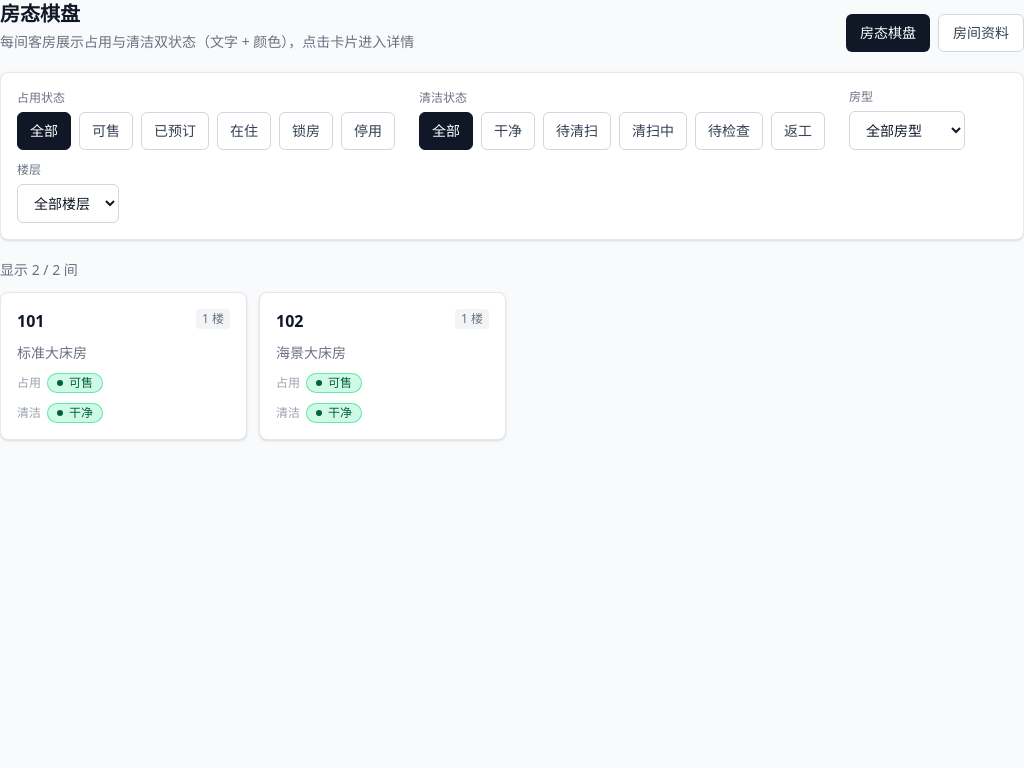
RoomsManagementView（alpha.9.6 F1） › 后端 409（房号重复）文案原样展示在对话框内
The width and height of the screenshot is (1024, 768).
Click the tab "房间资料" at (981, 33), box x1=938 y1=14 x2=1023 y2=52
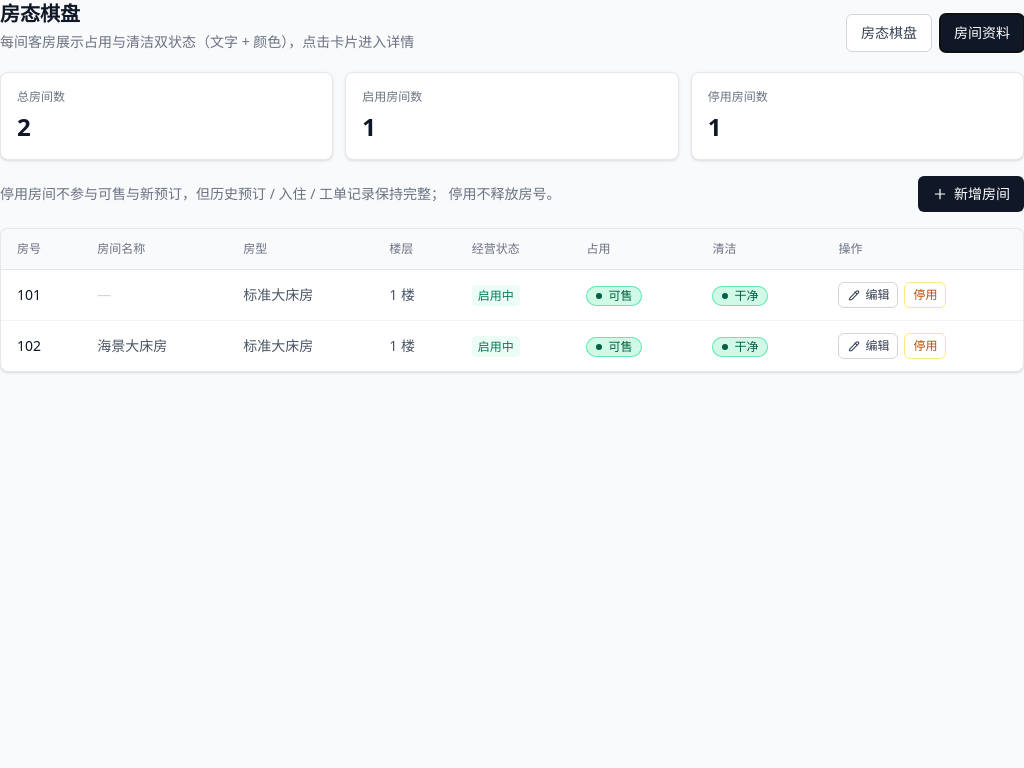
Click the button "新增房间" at (971, 194), box x1=918 y1=176 x2=1023 y2=212
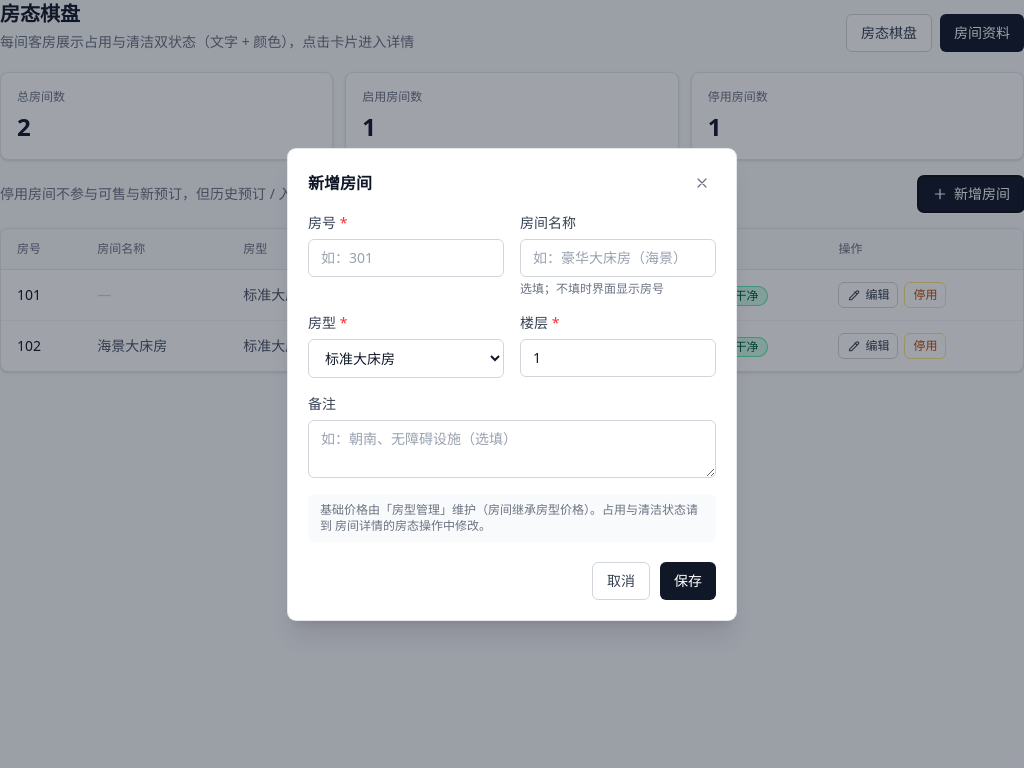
Type "101" into the field labelled "房号 *" at (406, 258), box x1=308 y1=238 x2=504 y2=276
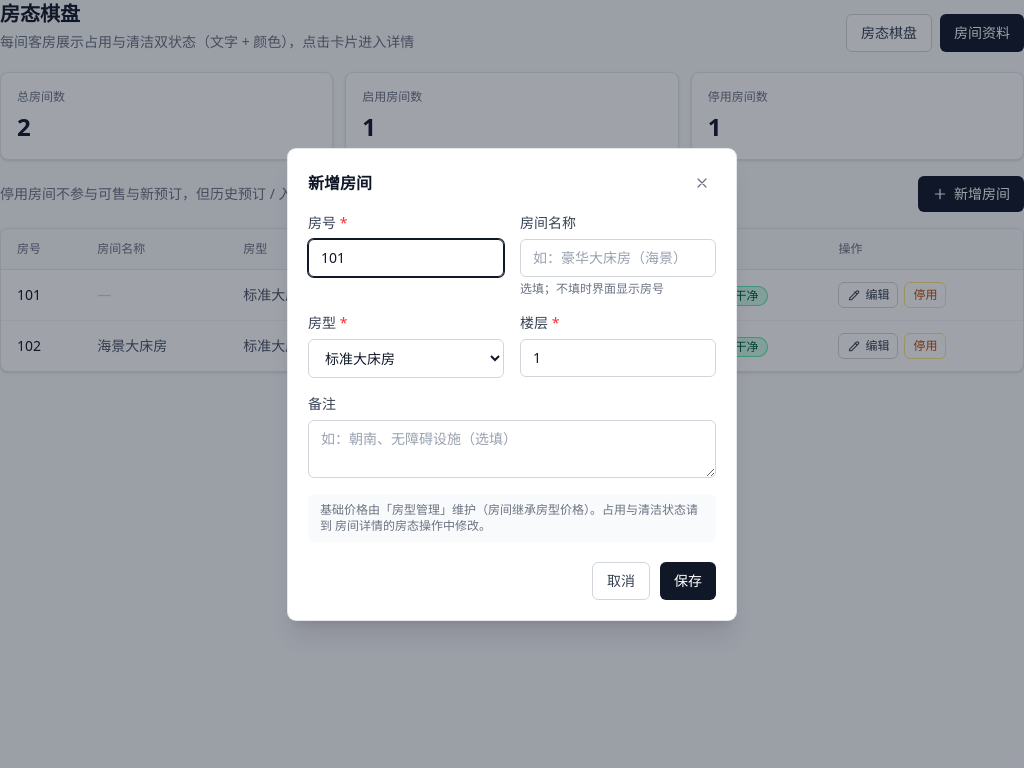
Click the button "保存" at (688, 580), box x1=660 y1=562 x2=716 y2=600
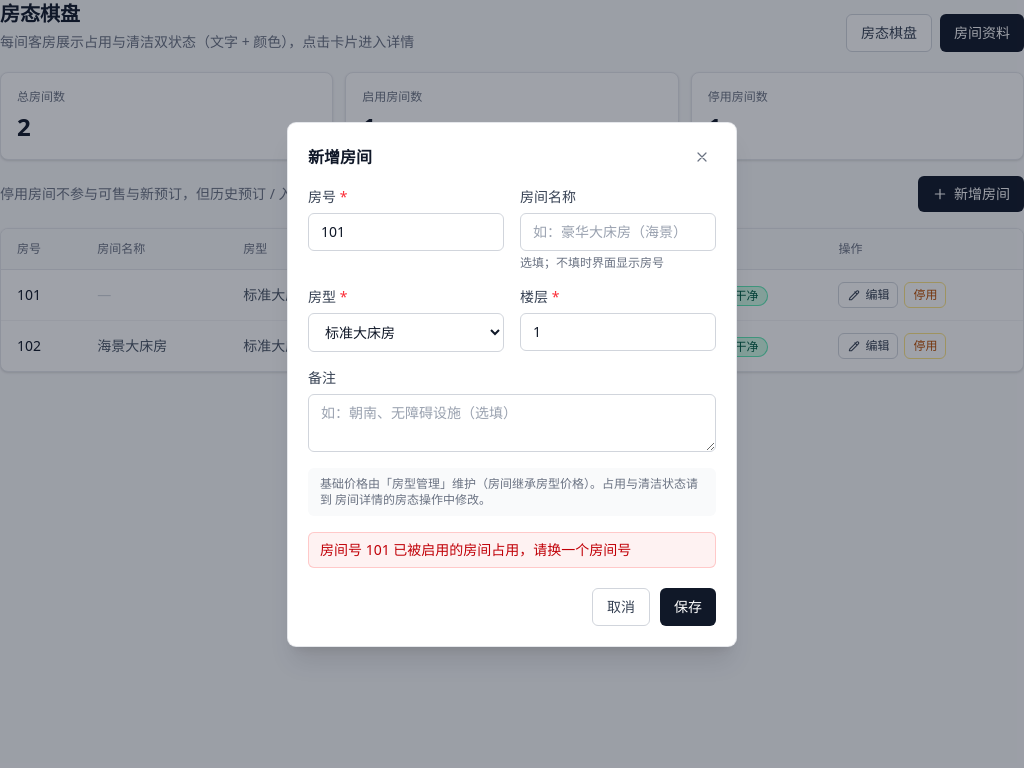
Expected: the text "房间号 101 已被启用的房间占用，请换一个房间号" is shown, x1=308 y1=532 x2=716 y2=568
